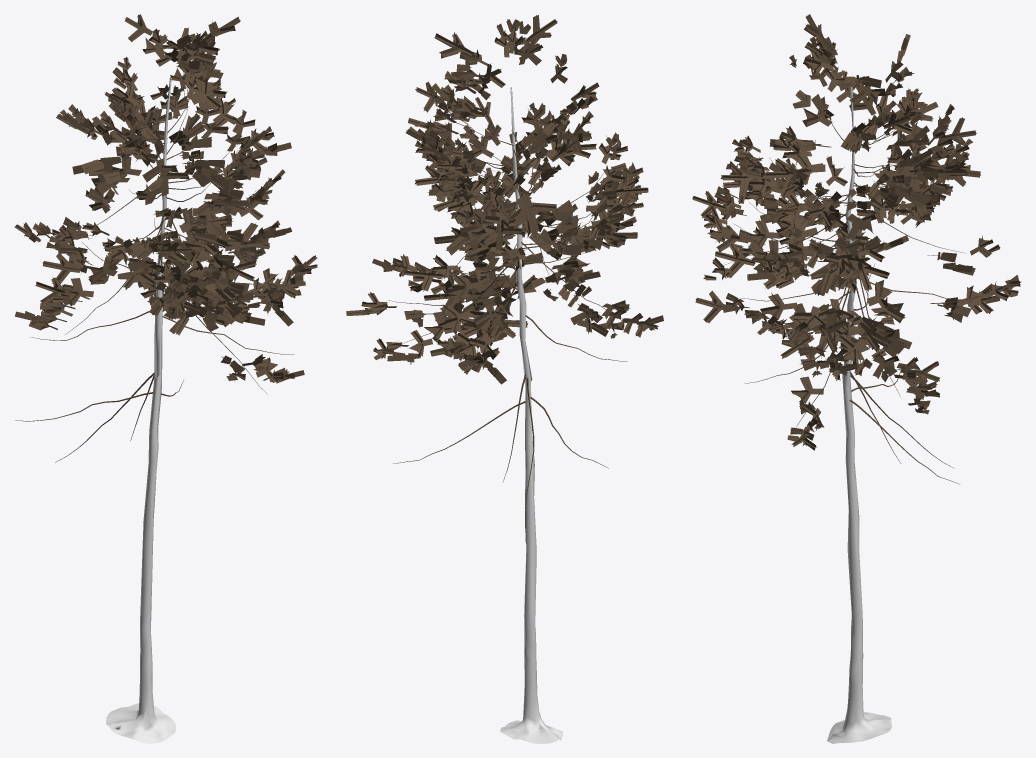
File: fir_c_m.glb
The picture shows the model from 3 angles, left to right: view 1: azimuth 30°, elevation 25°; view 2: azimuth 150°, elevation 25°; view 3: azimuth 270°, elevation 25°; orthographic projection. The views are drawn at different scales.
Parts seen in each view (by area): view 1: fir_tree_01_c_LOD2.001; view 2: fir_tree_01_c_LOD2.001; view 3: fir_tree_01_c_LOD2.001.
Boxes of the visible parts, box(x1,y1,x2,y2) form: fir_tree_01_c_LOD2.001: box(14, 14, 317, 743); fir_tree_01_c_LOD2.001: box(346, 15, 663, 743); fir_tree_01_c_LOD2.001: box(692, 14, 1021, 743).
Size of the model in its own units: 6.33 by 14.54 by 5.99.
